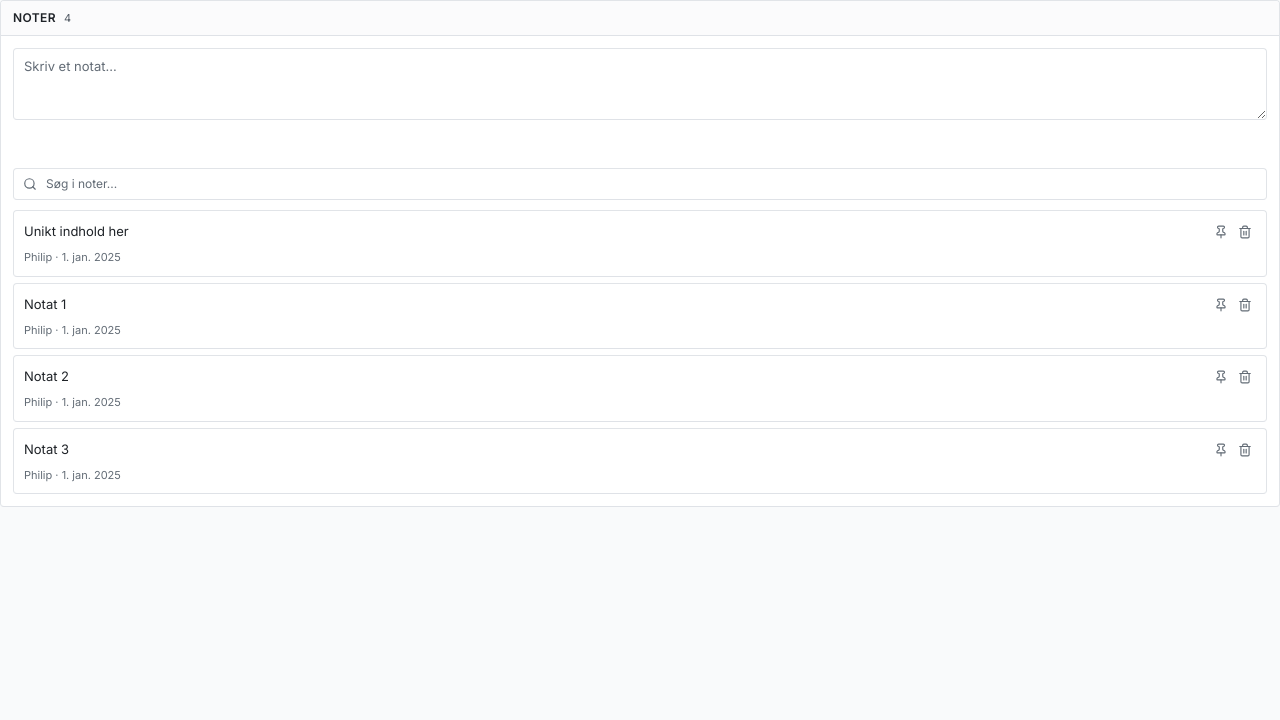
Test: NotesSection › filters notes by search text
Type "Unikt indhold" into the field with placeholder "Søg i noter..." at [640, 184], box x1=13 y1=168 x2=1267 y2=200
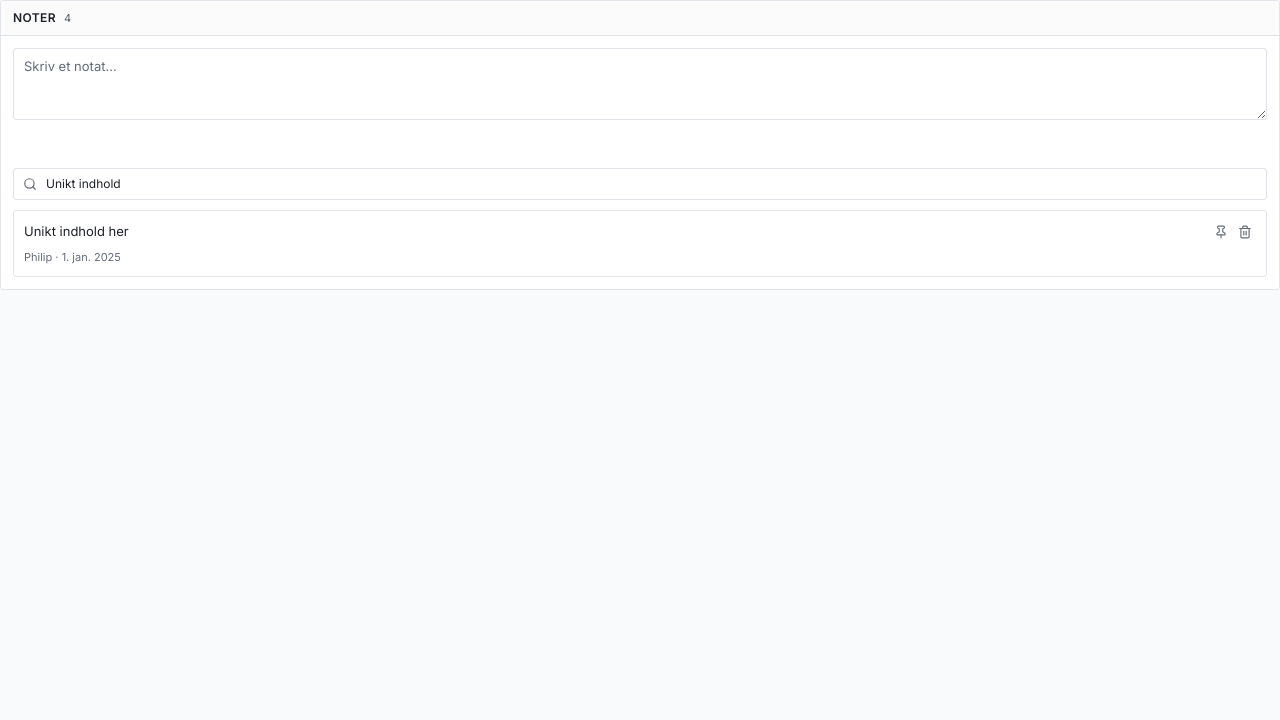
Expected: the text "Unikt indhold her" is shown, x1=24 y1=223 x2=129 y2=239
Now the text "Notat 1" is gone
